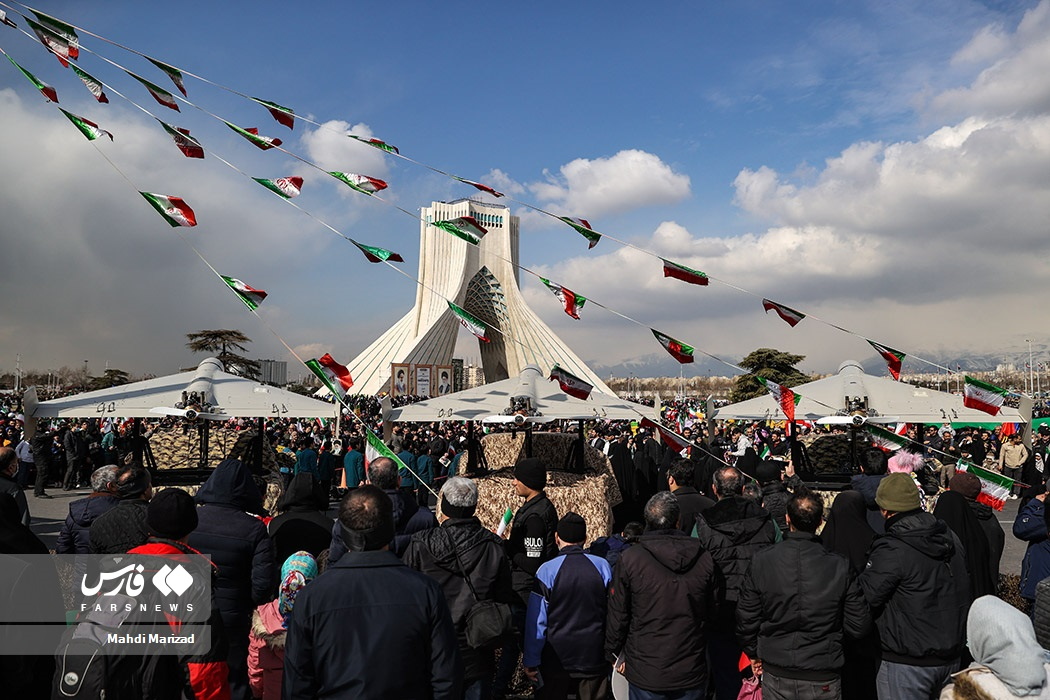shahed: (705, 361, 1034, 452), (25, 355, 341, 446), (379, 365, 662, 425)
